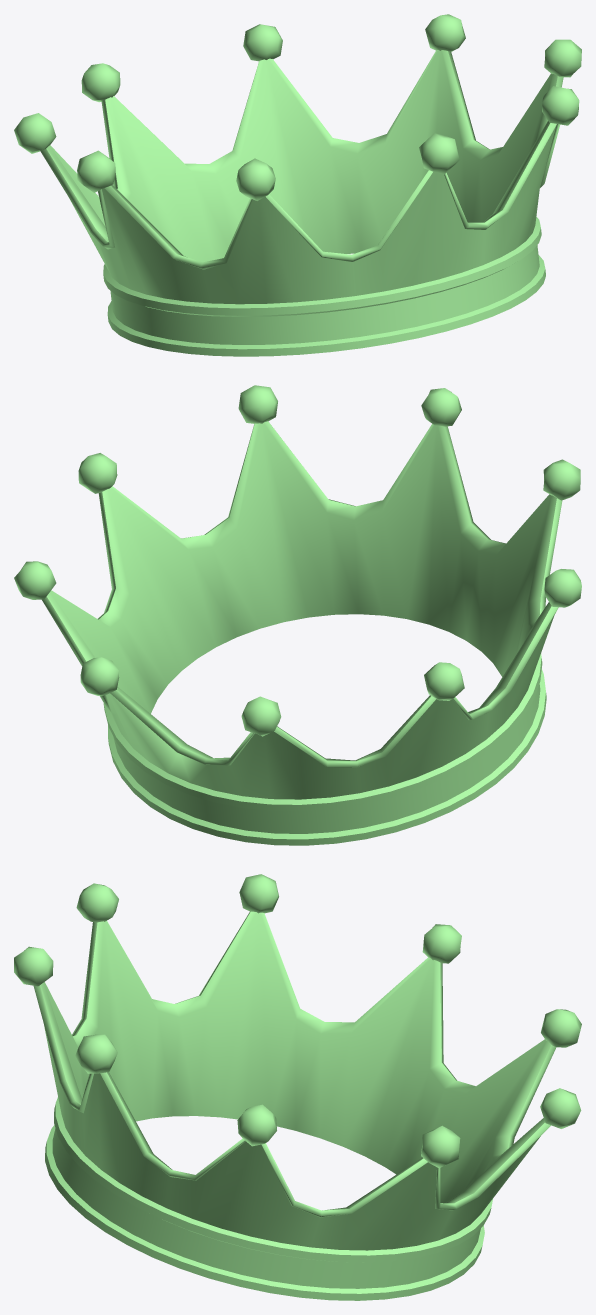
The model's file is Hat_36_03.fbx.
3 renders of one model, top to bottom at view 1: azimuth 30°, elevation 25°; view 2: azimuth 150°, elevation 25°; view 3: azimuth 270°, elevation 25°, orthographic.
Parts seen in each view (by area): view 1: Hat_36_03; view 2: Hat_36_03; view 3: Hat_36_03.
Boxes of the visible parts, x1,y1,x2,y2 form: Hat_36_03: (14, 14, 581, 356); Hat_36_03: (14, 385, 581, 845); Hat_36_03: (14, 874, 581, 1300).
Size of the model in its own units: 48.35 by 26.27 by 46.62.
